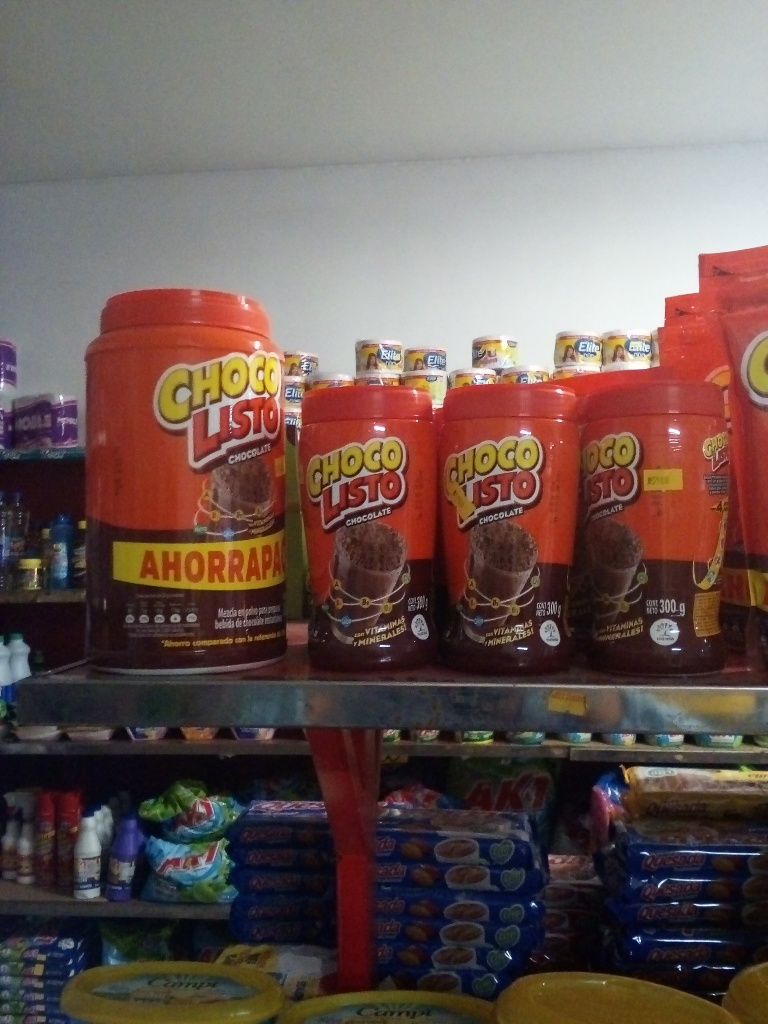COL0170103TRR00100: (74, 288, 293, 674)
